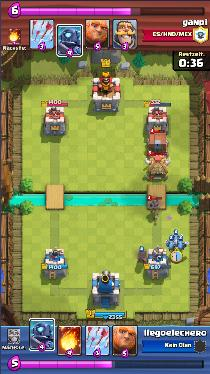ally_goblin_cage: (146, 131, 170, 155)
ally_minion: (166, 240, 178, 251), (175, 240, 187, 251), (172, 233, 180, 243)
ally_musketeer: (139, 249, 146, 265)
enemy_goblin_hut: (143, 155, 172, 181)
enemy_musketeer: (149, 199, 160, 214)
